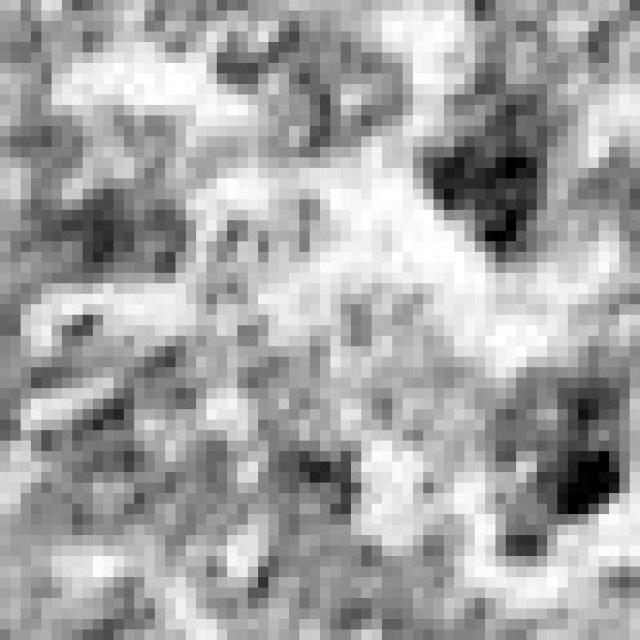inner: (195, 181, 480, 442)
lobe: (410, 49, 585, 277), (14, 116, 222, 288), (171, 432, 364, 617), (16, 313, 208, 484), (485, 352, 636, 566), (208, 14, 415, 156)
outer: (0, 0, 640, 640)
